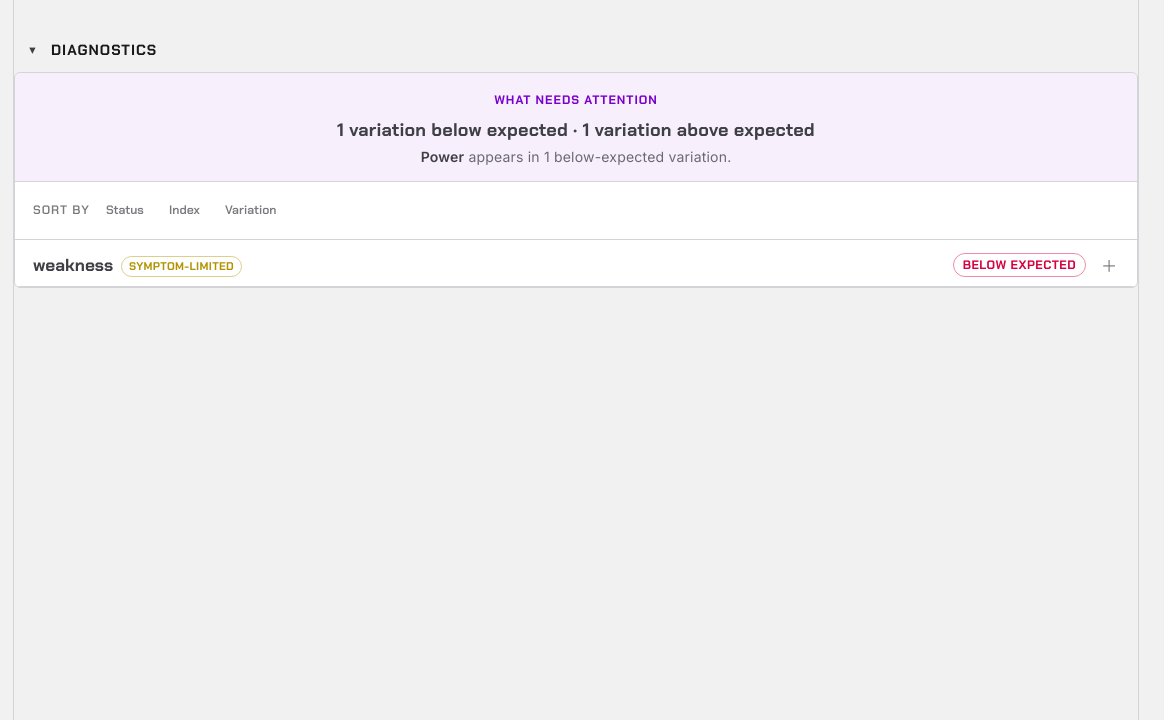
Test: DiagnosticsPanel › visibly marks an explicitly symptom-limited observation and preserves its session context
Expected: the text "Symptom-limited" is shown, [121,256,242,276]
Click the button "weakness Symptom-limited Below expected ＋": (73,265) [15,240,1137,286]
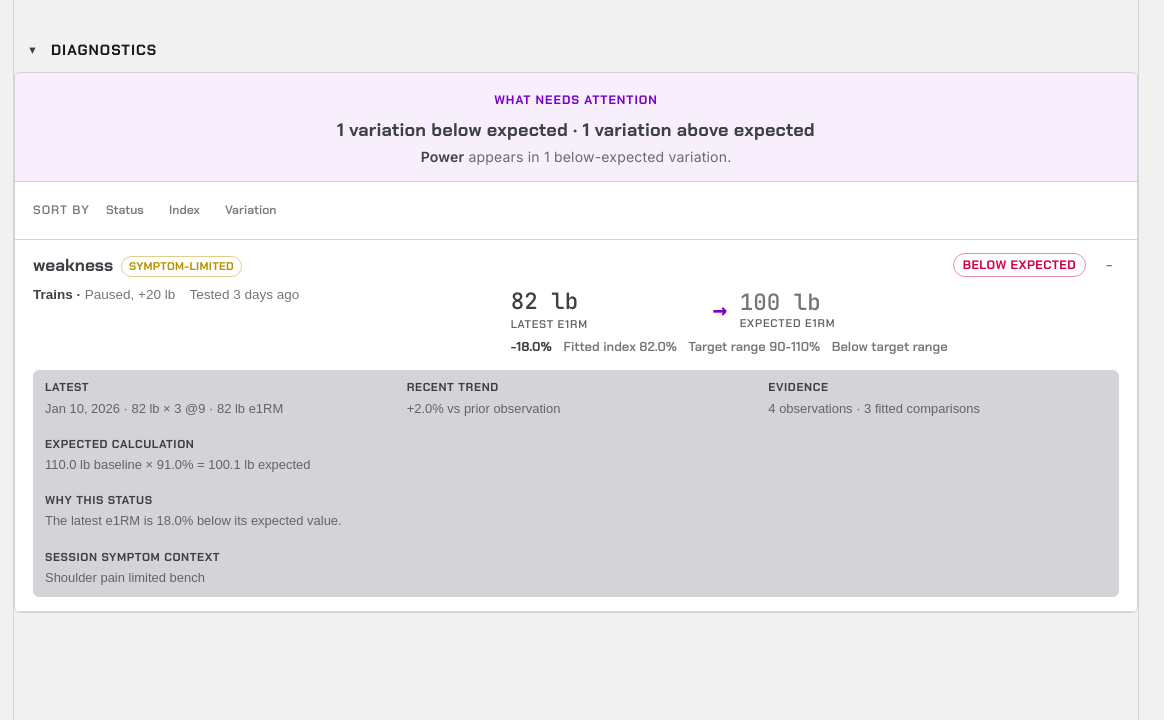
Now the text "Session symptom context" is shown, box [45,550,220,565]
Now the text "Shoulder pain limited bench" is shown, box [45,570,205,585]
